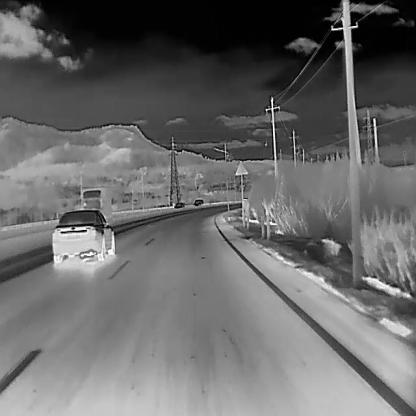car: (51, 209, 115, 265), (173, 202, 184, 210), (193, 198, 202, 206)
